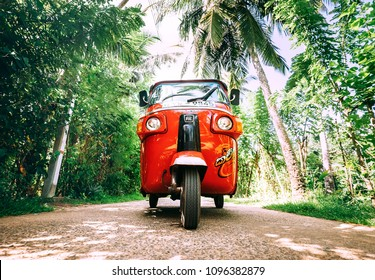threewheel: (135, 78, 242, 230)
